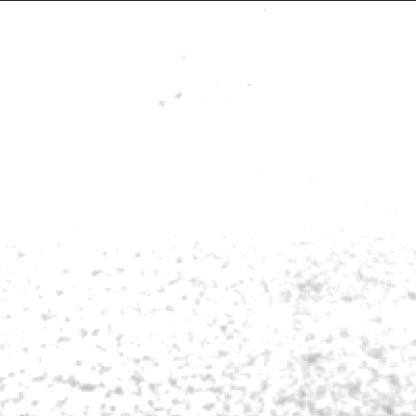pitted_surface: (15, 212, 416, 411), (179, 54, 416, 208)
